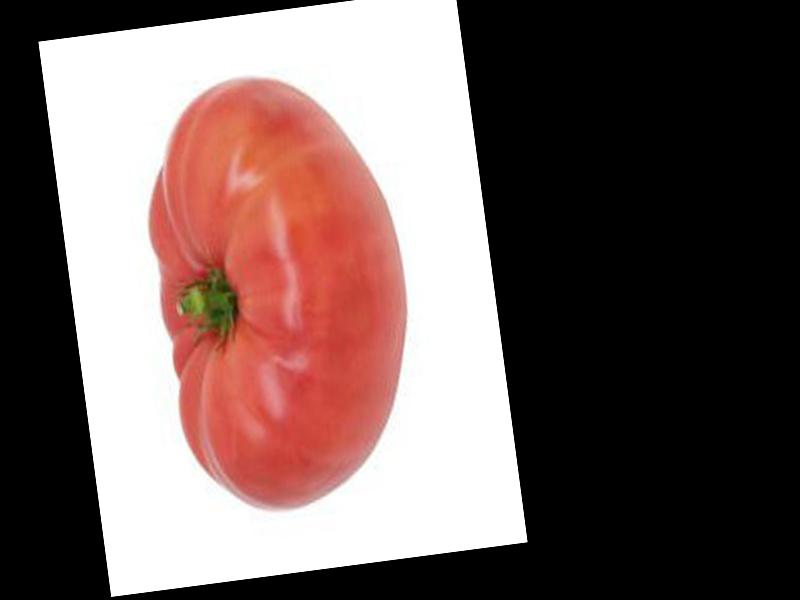Tomato: (136, 60, 429, 520)
